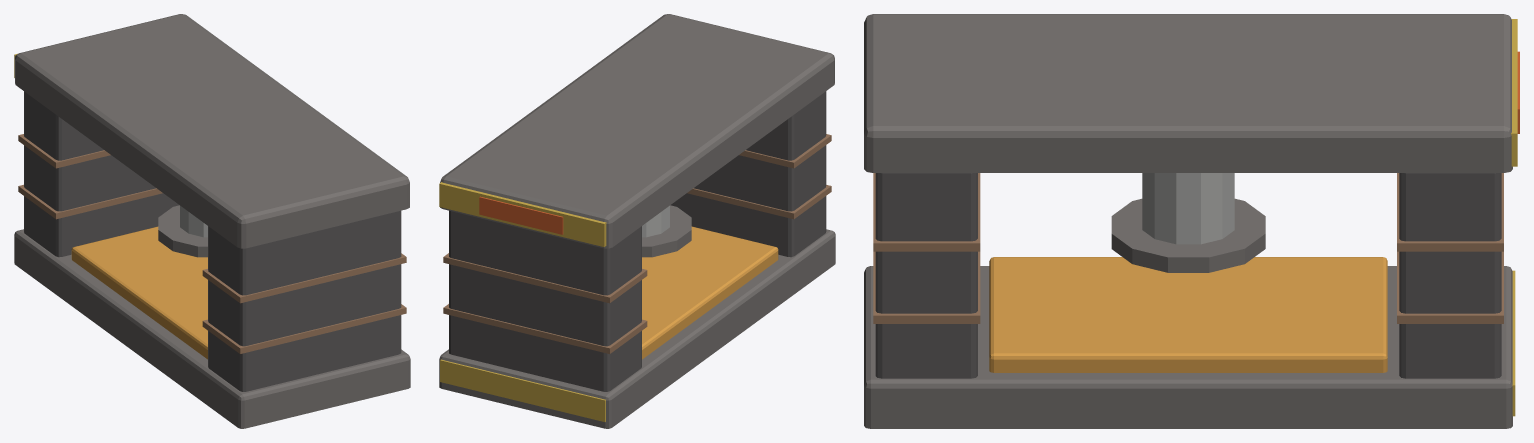
Rendered from rn2-forja-amb.glb.
3 views of the same model, side by side, from view 1: azimuth 30°, elevation 25°; view 2: azimuth 150°, elevation 25°; view 3: azimuth 270°, elevation 25° (orthographic). The views are drawn at different scales.
Visible parts, largest first — view 1: rn2_forja_amb_body, rn2_forja_amb_glow; view 2: rn2_forja_amb_body, rn2_forja_amb_glow; view 3: rn2_forja_amb_body, rn2_forja_amb_glow.
Boxes of the visible parts, x1,y1,x2,y2 form: rn2_forja_amb_body: (14,14,410,428); rn2_forja_amb_glow: (71,226,207,359); rn2_forja_amb_body: (439,14,835,428); rn2_forja_amb_glow: (479,196,778,359); rn2_forja_amb_body: (864,14,1517,428); rn2_forja_amb_glow: (989,51,1519,372).
Size of the model in its own units: 2.48 by 2.9 by 5.76.
